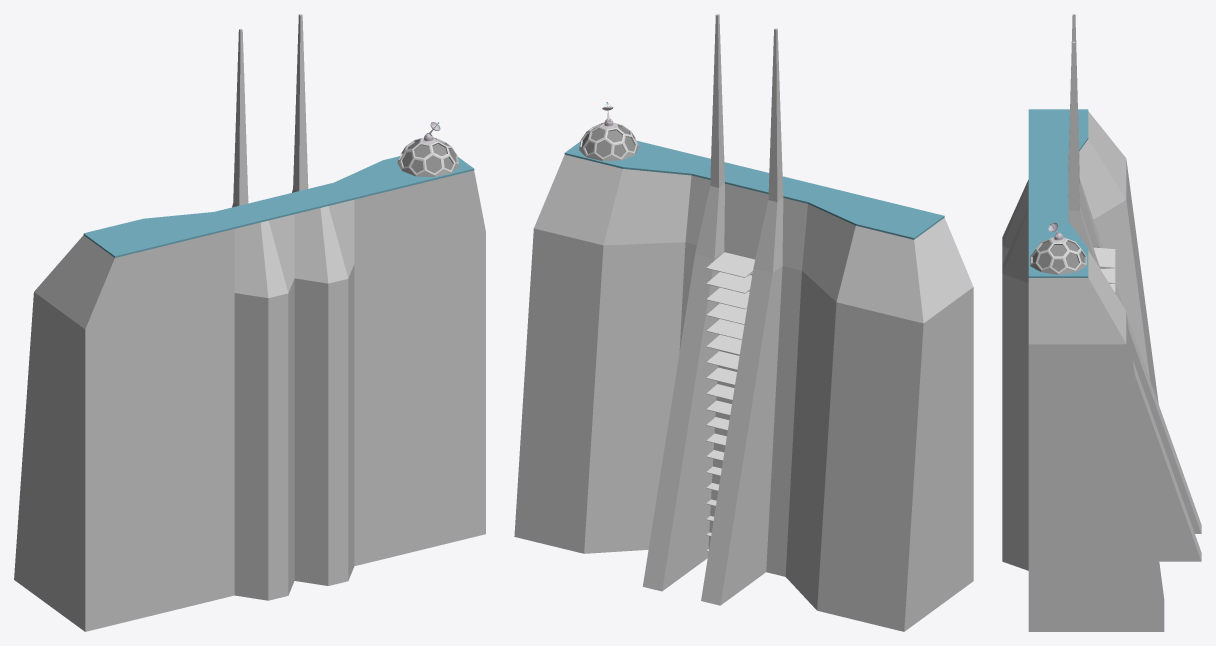
File: hydroelectric dam_v3.fbx
3 views of the same model, side by side, from view 1: azimuth 30°, elevation 25°; view 2: azimuth 150°, elevation 25°; view 3: azimuth 270°, elevation 25° (orthographic). The views are drawn at different scales.
Visible parts, largest first — view 1: dam.001; view 2: dam.001; view 3: dam.001.
Boxes of the visible parts, left/top/right/bottom form: dam.001: left=14, top=14, right=485, bottom=631; dam.001: left=514, top=14, right=973, bottom=631; dam.001: left=1002, top=14, right=1201, bottom=631.
Bounding box in the file's own units: 28722 × 12991 × 37815.
